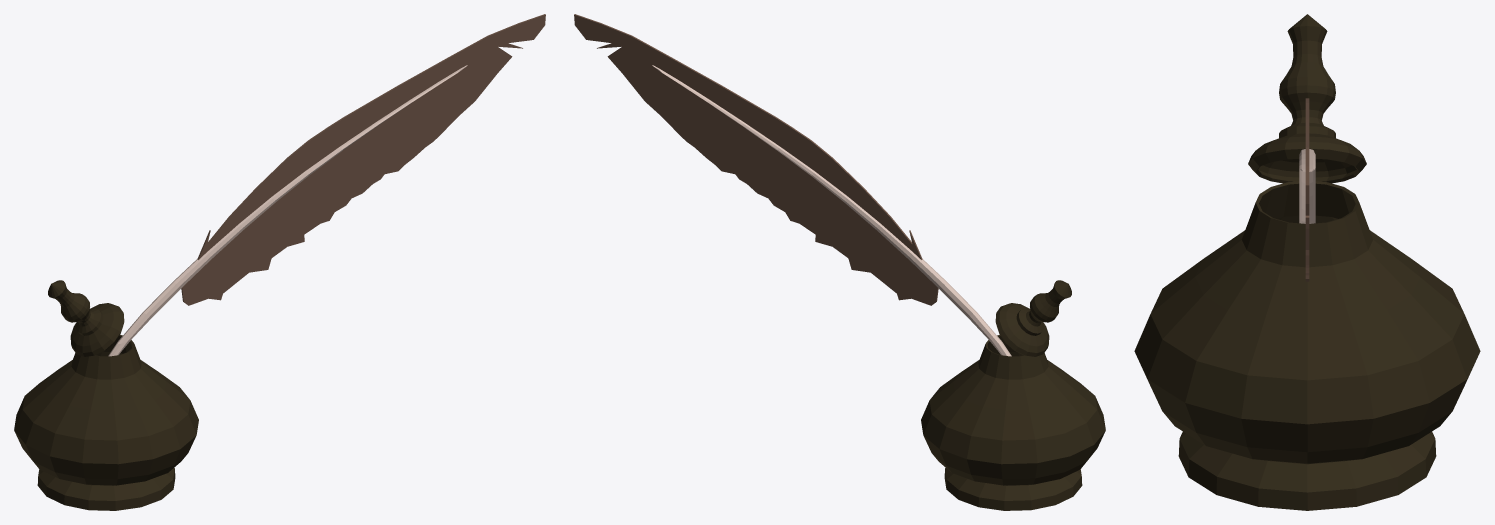
Rendered from 2chernila.glb.
The picture shows the model from 3 angles, left to right: view 1: azimuth 30°, elevation 25°; view 2: azimuth 150°, elevation 25°; view 3: azimuth 270°, elevation 25°; orthographic projection. The views are drawn at different scales.
Parts seen in each view (by area): view 1: Цилиндр; view 2: Цилиндр; view 3: Цилиндр.
Part boxes in pixels (x1,y1,x2,y2): Цилиндр: [14, 14, 545, 510]; Цилиндр: [574, 14, 1105, 510]; Цилиндр: [1134, 14, 1480, 510].
Bounding box in the file's own units: 3.11 × 2.06 × 0.9674.
